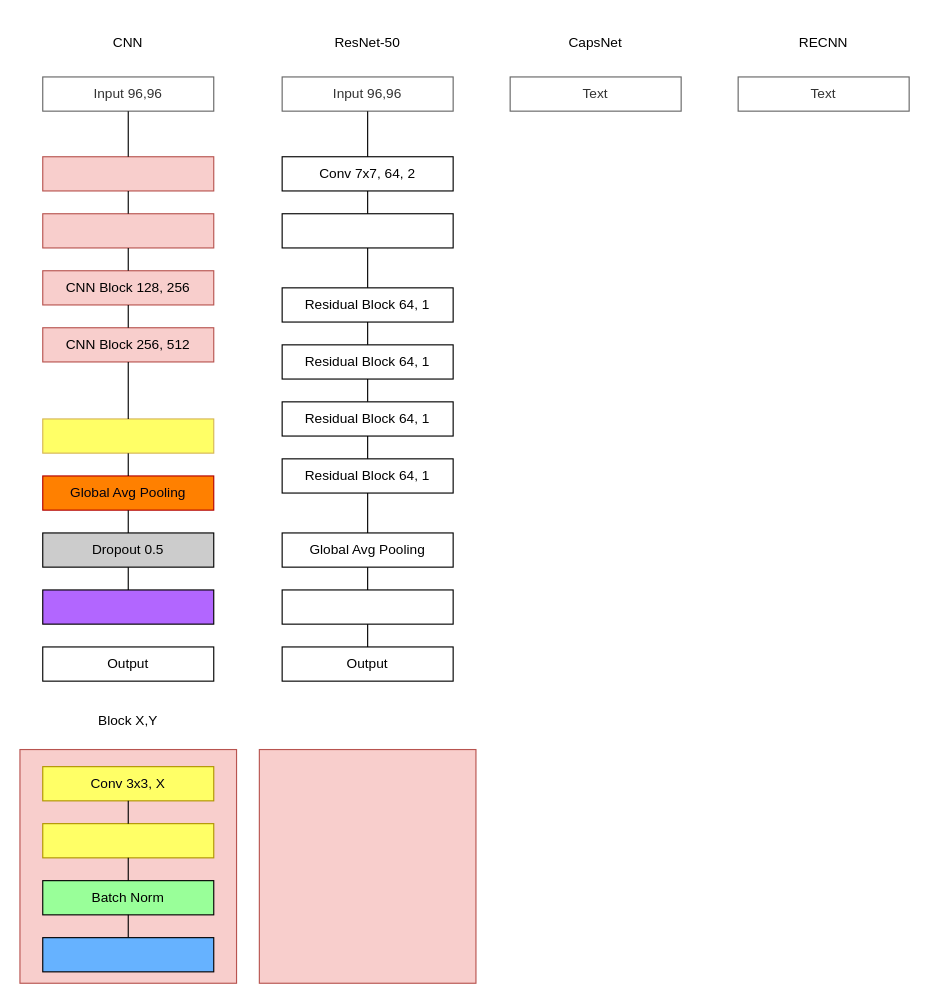
Image size: 929x1003. Some labels were removed from this diagram. The box of each missing label's shape, as (x1, y1, x2, y2) in pixels:
CNN Block 32, 64: (42, 156, 214, 191)
CNN Block 64, 128: (42, 213, 214, 248)
Conv 3x3, 512: (42, 418, 214, 453)
Conv 3x3, Y: (42, 823, 214, 858)
Dense 1024, ReLU: (281, 589, 453, 624)
Dense 512, ReLU: (42, 589, 214, 624)
Leaky ReLU: (42, 937, 214, 972)
Max Pool 2x2, 2: (281, 213, 453, 248)
